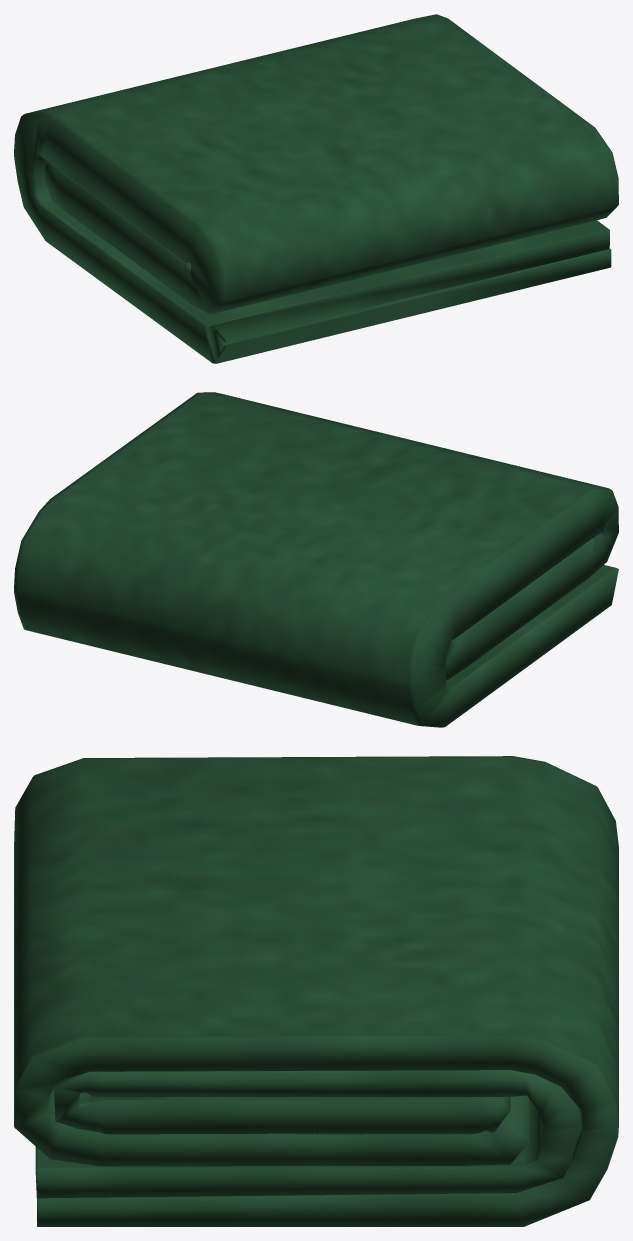
File: 12. Single_1.fbx
3 views of the same model, one above another, from view 1: azimuth 30°, elevation 25°; view 2: azimuth 150°, elevation 25°; view 3: azimuth 270°, elevation 25° (orthographic). The views are drawn at different scales.
Parts seen in each view (by area): view 1: Single_1; view 2: Single_1; view 3: Single_1.
Boxes of the visible parts, x1,y1,x2,y2 form: Single_1: (14, 14, 618, 363); Single_1: (14, 392, 618, 727); Single_1: (14, 756, 618, 1226).
Bounding box in the file's own units: 0.3238 × 0.0987 × 0.2857.
